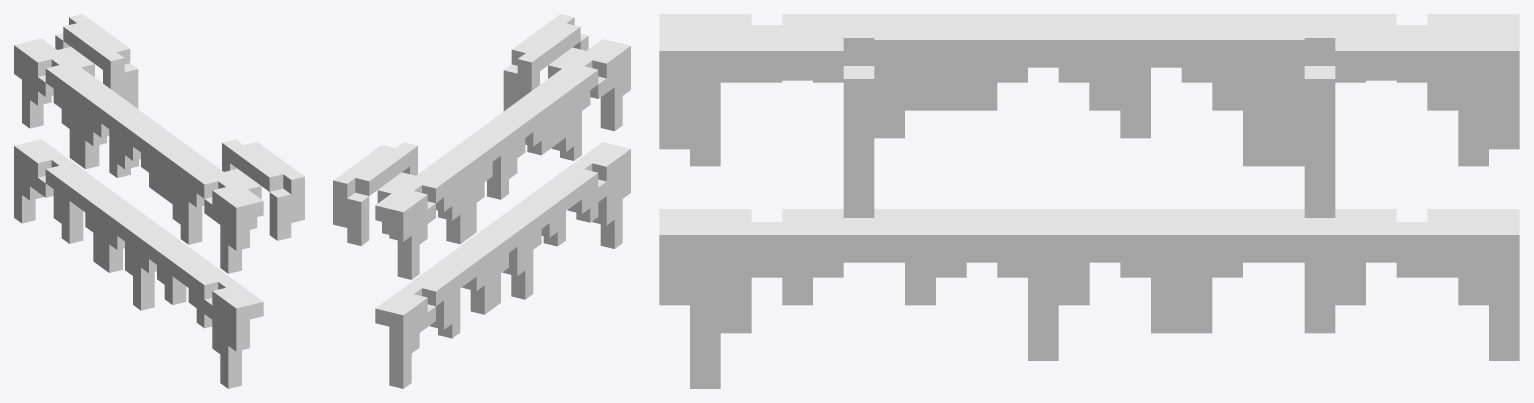
The model's file is Smol-NewFence-0.obj.
3 views of the same model, side by side, from view 1: azimuth 30°, elevation 25°; view 2: azimuth 150°, elevation 25°; view 3: azimuth 270°, elevation 25° (orthographic). The views are drawn at different scales.
Bounding box in the file's own units: 0.5 × 1.4 × 2.8.
1 material, 1 textured.
